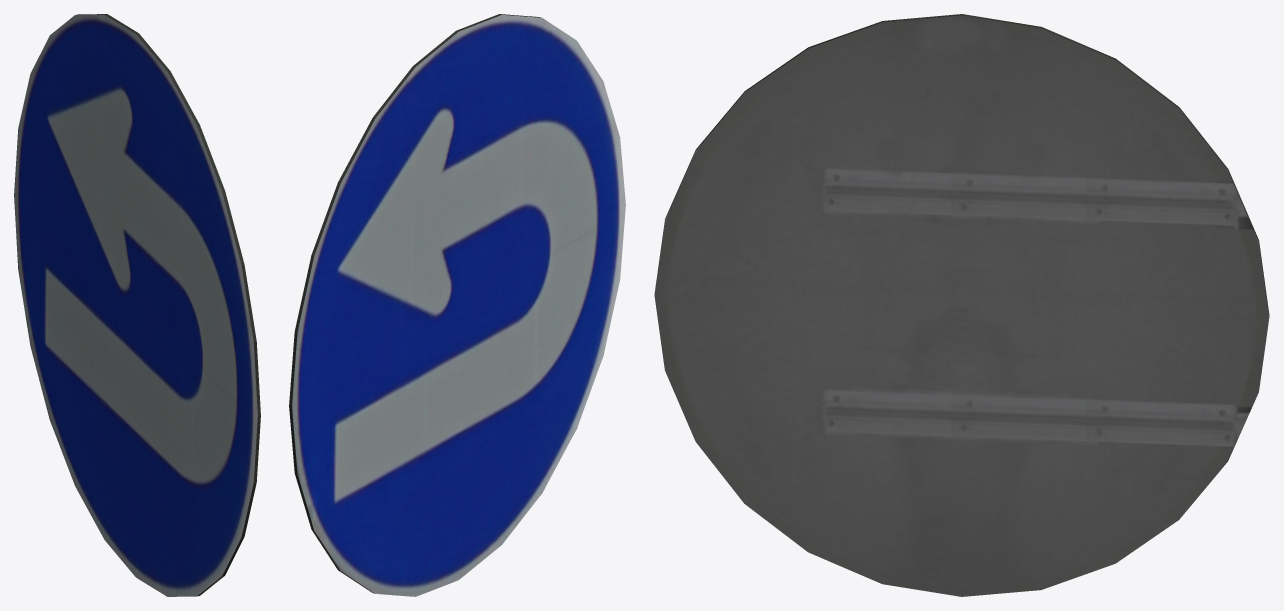
The model's file is RTA1001220829_0171L_02_normalization.obj.
3 renders of one model, left to right at view 1: azimuth 30°, elevation 25°; view 2: azimuth 150°, elevation 25°; view 3: azimuth 270°, elevation 25°, orthographic. The views are drawn at different scales.
Visible parts, largest first — view 1: RTA1001220829_0171S_02; view 2: RTA1001220829_0171S_02; view 3: RTA1001220829_0171S_02.
Part boxes in pixels (x1,y1,x2,y2): RTA1001220829_0171S_02: (14,14,260,596); RTA1001220829_0171S_02: (289,14,625,596); RTA1001220829_0171S_02: (654,14,1269,596).
Size of the model in its own units: 0.0645 by 0.7203 by 0.6906.
Materials: 1 (1 with a texture image).
